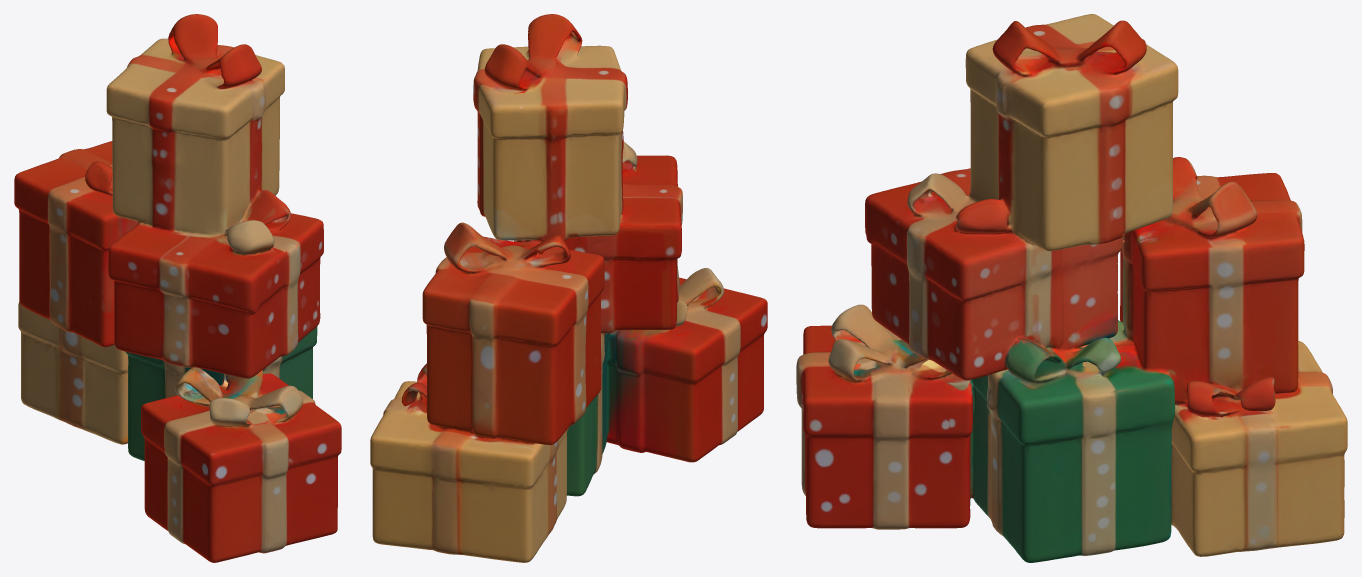
The model's file is stack_of_presents.glb.
3 renders of one model, left to right at view 1: azimuth 30°, elevation 25°; view 2: azimuth 150°, elevation 25°; view 3: azimuth 270°, elevation 25°, orthographic. The views are drawn at different scales.
Visible parts, largest first — view 1: tripo_node_defc5649-882d-4af1-8b87-7b0f29b1b3b9; view 2: tripo_node_defc5649-882d-4af1-8b87-7b0f29b1b3b9; view 3: tripo_node_defc5649-882d-4af1-8b87-7b0f29b1b3b9.
Boxes of the visible parts, box(x1,y1,x2,y2) form: tripo_node_defc5649-882d-4af1-8b87-7b0f29b1b3b9: box(14, 14, 341, 562); tripo_node_defc5649-882d-4af1-8b87-7b0f29b1b3b9: box(370, 14, 767, 562); tripo_node_defc5649-882d-4af1-8b87-7b0f29b1b3b9: box(796, 14, 1347, 562).
Bounding box in the file's own units: 0.4781 × 0.9432 × 0.936.
1 material, 1 textured.
